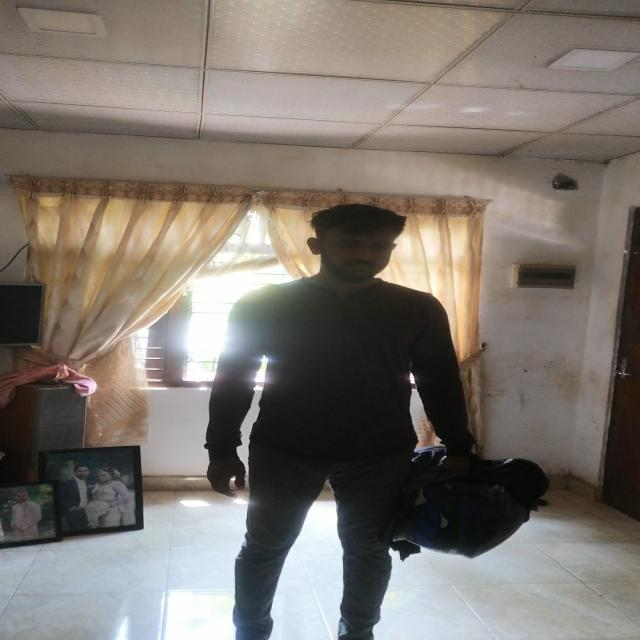Person: (195, 196, 496, 640)
